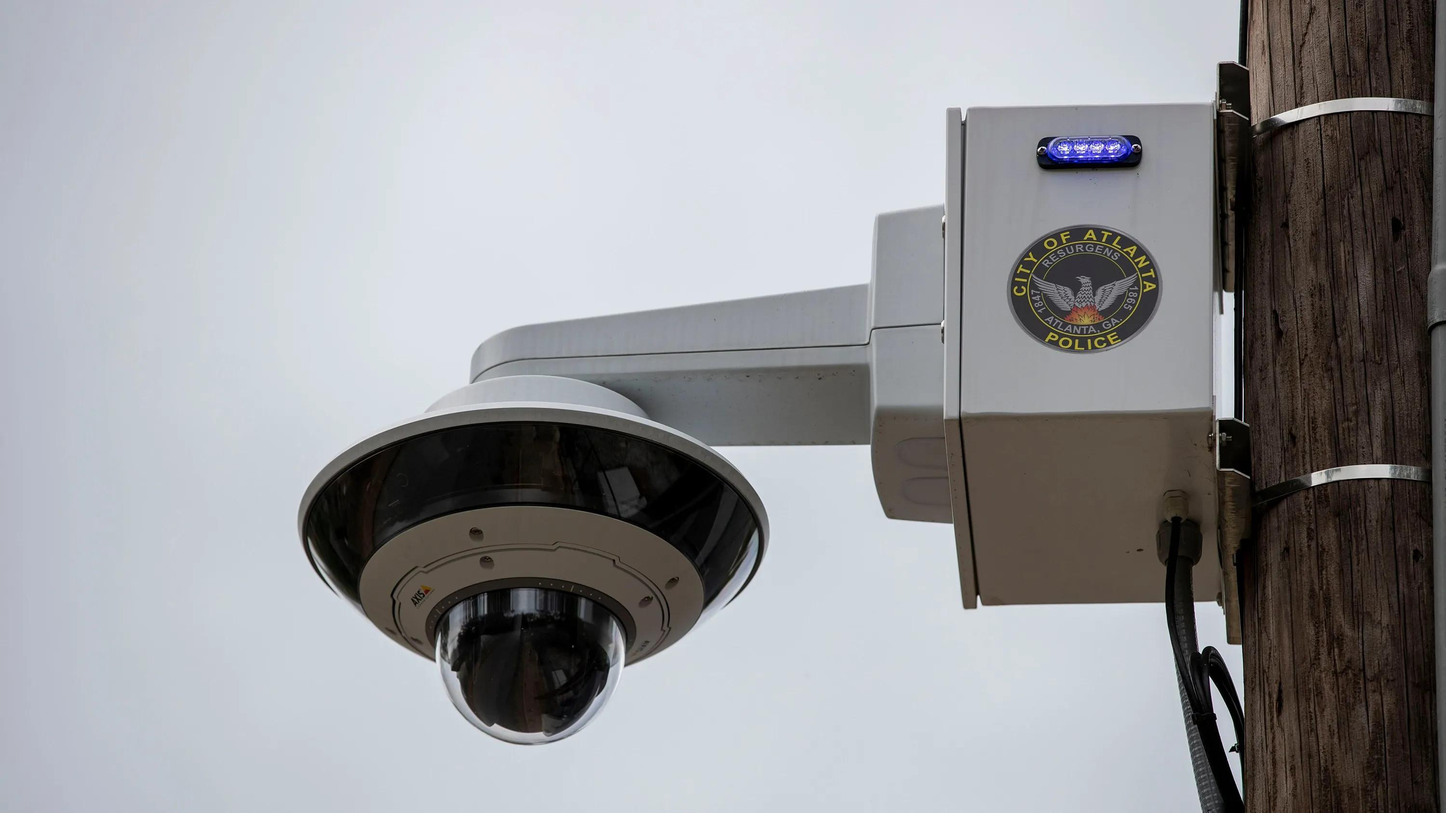camera: (215, 214, 796, 786)
